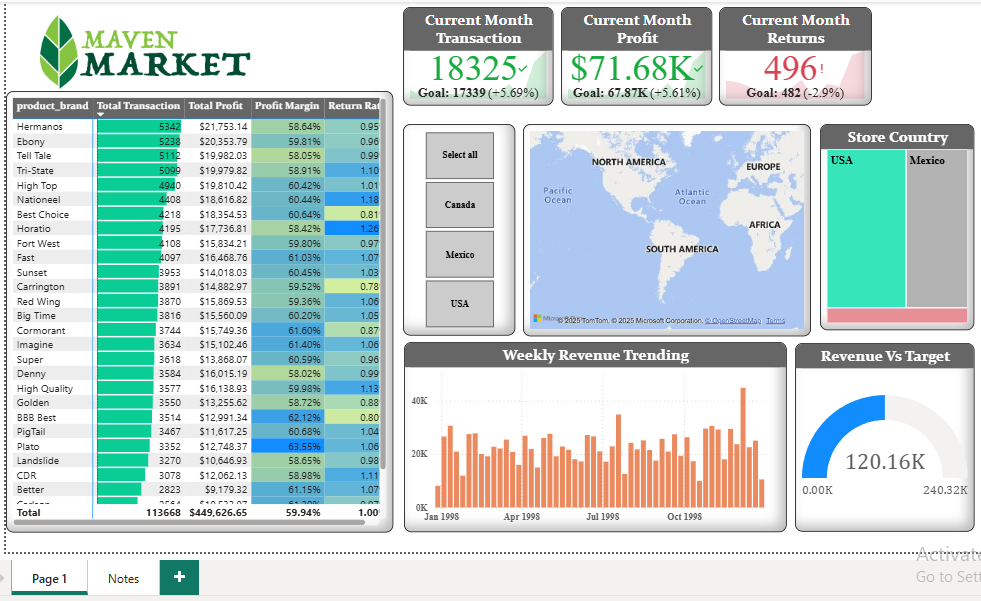

The dashboard page shown, as its layout file describes it:
{"tool":"powerbi","page":{"name":"Page 1","canvas":[1280,720],"ordinal":0},"visuals":[{"type":"image","box":[31.9,0,299,129.3],"z":0},{"type":"pivotTable","fields":{"Rows":["Products.product_brand"],"Values":["Products.Total Transaction","Transaction_data.Total Profit","Transaction_data.Profit Margin","Products.Return Rate"]},"box":[0,115.9,507.3,577.8],"z":1000},{"type":"kpi","title":"Current Month Transaction","fields":{"Indicator":["Products.Total Transaction"],"TrendLine":["Calendar.Start of Month"],"Goal":["Transaction_data.Last Month Transaction"]},"box":[520.3,6.9,196.8,129.4],"z":2000},{"type":"kpi","title":"Current Month Profit","fields":{"TrendLine":["Calendar.Start of Month"],"Goal":["Transaction_data.Last Month Profit"],"Indicator":["Transaction_data.Total Profit"]},"box":[726.7,6.9,198.2,129.4],"z":3000},{"type":"kpi","title":"Current Month Returns","fields":{"TrendLine":["Calendar.Start of Month"],"Goal":["Transaction_data.Last Month Returns"],"Indicator":["Products.Total returns"]},"box":[933.2,6.9,199.6,129.4],"z":4000},{"type":"slicer","fields":{"Values":["Stores.store_country"]},"box":[520.3,159.7,147.3,276.6],"z":5000},{"type":"treemap","title":"Store Country","fields":{"Group":["Stores.store_country","Stores.store_state","Stores.store_city"],"Values":["Products.Total Transaction"]},"box":[1065.3,159.7,202.3,269.8],"z":6000},{"type":"clusteredColumnChart","title":"Weekly Revenue Trending","fields":{"Y":["Transaction_data.Total Revenue"],"Category":["Calendar.Start of Week"]},"box":[520.7,445.1,500.6,248.6],"z":7000},{"type":"gauge","title":"Revenue Vs Target","fields":{"Y":["Transaction_data.Total Revenue"],"TargetValue":["Transaction_data.Revenue Target"]},"box":[1033.1,446.8,235.2,246.9],"z":8000},{"type":"filledMap","fields":{"Category":["Stores.store_city"]},"box":[677.2,159.7,377.1,278],"z":9000}]}

Visuals, with their boxes in screenshot pixels (x1, y1, x2, y2):
image: box=[29, 3, 255, 100]
pivotTable - Products.product_brand x Products.Total Transaction: box=[5, 90, 389, 527]
"Current Month Transaction" kpi: box=[398, 8, 547, 106]
"Current Month Profit" kpi: box=[554, 8, 704, 106]
"Current Month Returns" kpi: box=[710, 8, 861, 106]
slicer - Stores.store_country: box=[398, 123, 510, 332]
"Store Country" treemap: box=[810, 123, 963, 327]
"Weekly Revenue Trending" clusteredColumnChart: box=[399, 339, 777, 527]
"Revenue Vs Target" gauge: box=[786, 340, 964, 527]
filledMap - Stores.store_city: box=[517, 123, 802, 333]
